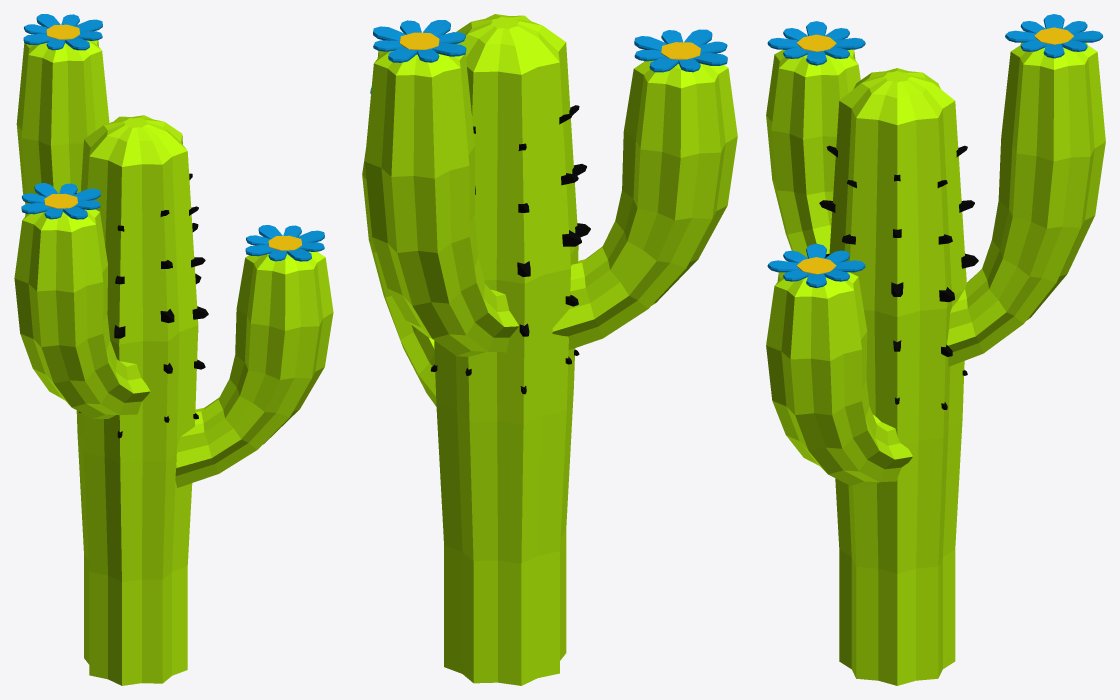
Rendered from Cardon02_03Brazos_Flor_Azul.fbx.
The picture shows the model from 3 angles, left to right: view 1: azimuth 30°, elevation 25°; view 2: azimuth 150°, elevation 25°; view 3: azimuth 270°, elevation 25°; orthographic projection. The views are drawn at different scales.
Visible parts, largest first — view 1: Cactus, Flor_Azul, Espinas; view 2: Cactus, Flor_Azul, Espinas; view 3: Cactus, Flor_Azul, Espinas.
Boxes of the visible parts, box(x1,y1,x2,y2) form: Cactus: box(14, 40, 333, 685); Flor_Azul: box(21, 14, 324, 261); Espinas: box(75, 173, 208, 438); Cactus: box(362, 14, 737, 685); Flor_Azul: box(370, 20, 727, 93); Espinas: box(430, 105, 590, 394); Cactus: box(766, 42, 1105, 685); Flor_Azul: box(767, 14, 1103, 287); Espinas: box(819, 145, 978, 409).
Bounding box in the file's own units: 124 × 226 × 111.
